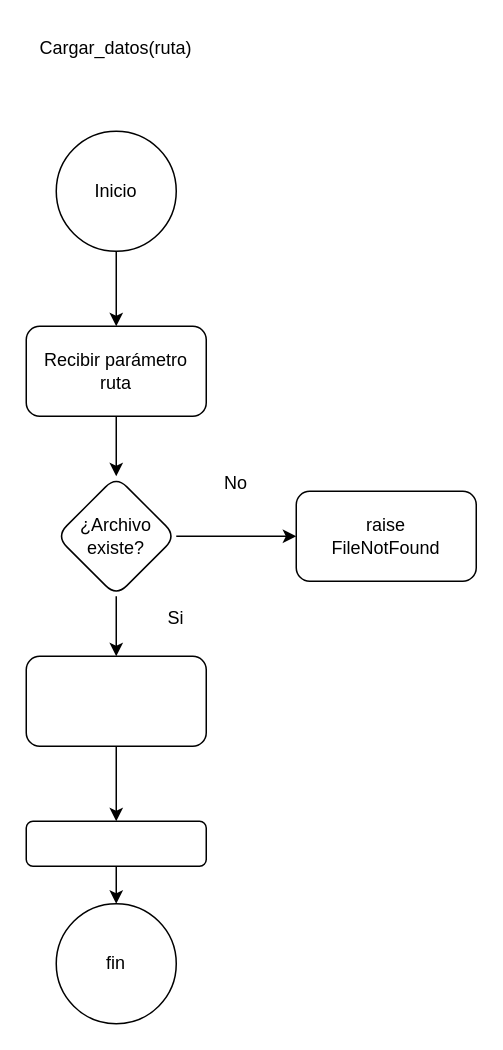
Image size: 503x1050. Some labels were removed from this diagram. Each missing label, with the centre of its shape:
pd.read_excel(...) Carga el Excel con tipos definidos: the point at 115,700
Return df: the point at 115,843
